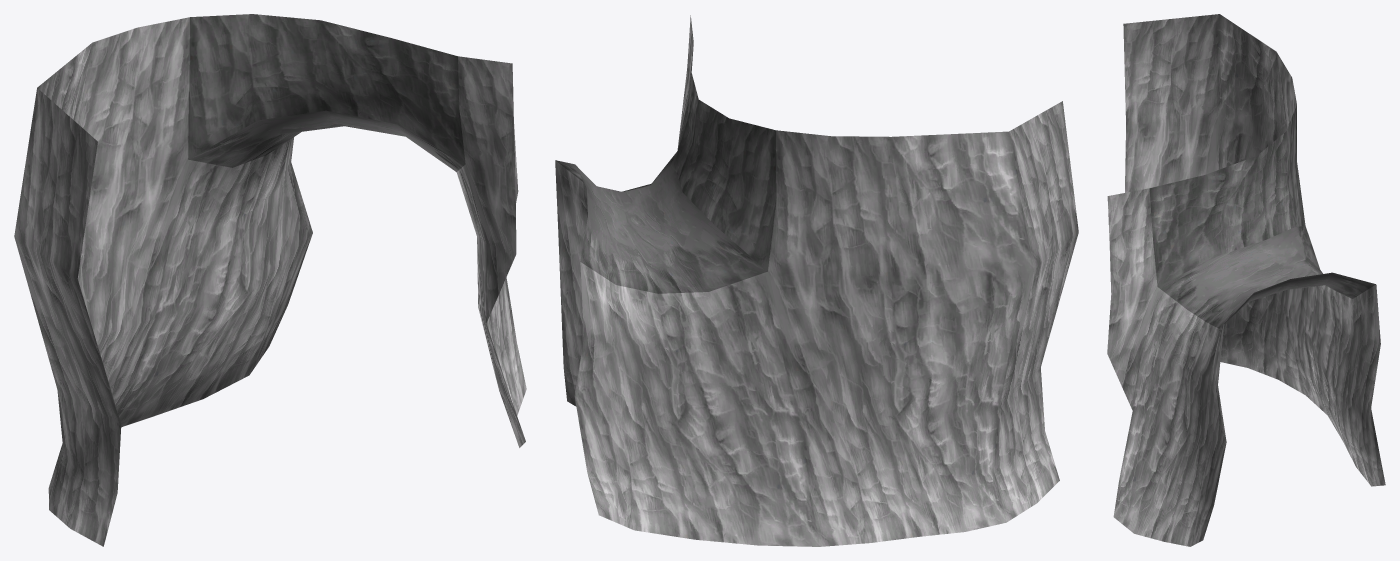
Rendered from SWORDLIGHT20_PS-AREA03_56.obj.
3 views of the same model, side by side, from view 1: azimuth 30°, elevation 25°; view 2: azimuth 150°, elevation 25°; view 3: azimuth 270°, elevation 25° (orthographic). The views are drawn at different scales.
Visible parts, largest first — view 1: PS-Area03_56; view 2: PS-Area03_56; view 3: PS-Area03_56.
Boxes of the visible parts, bbox=[...] form: PS-Area03_56: bbox=[14, 14, 526, 546]; PS-Area03_56: bbox=[555, 15, 1078, 546]; PS-Area03_56: bbox=[1107, 14, 1385, 546].
Size of the model in its own units: 1726 by 1417 by 1012.
